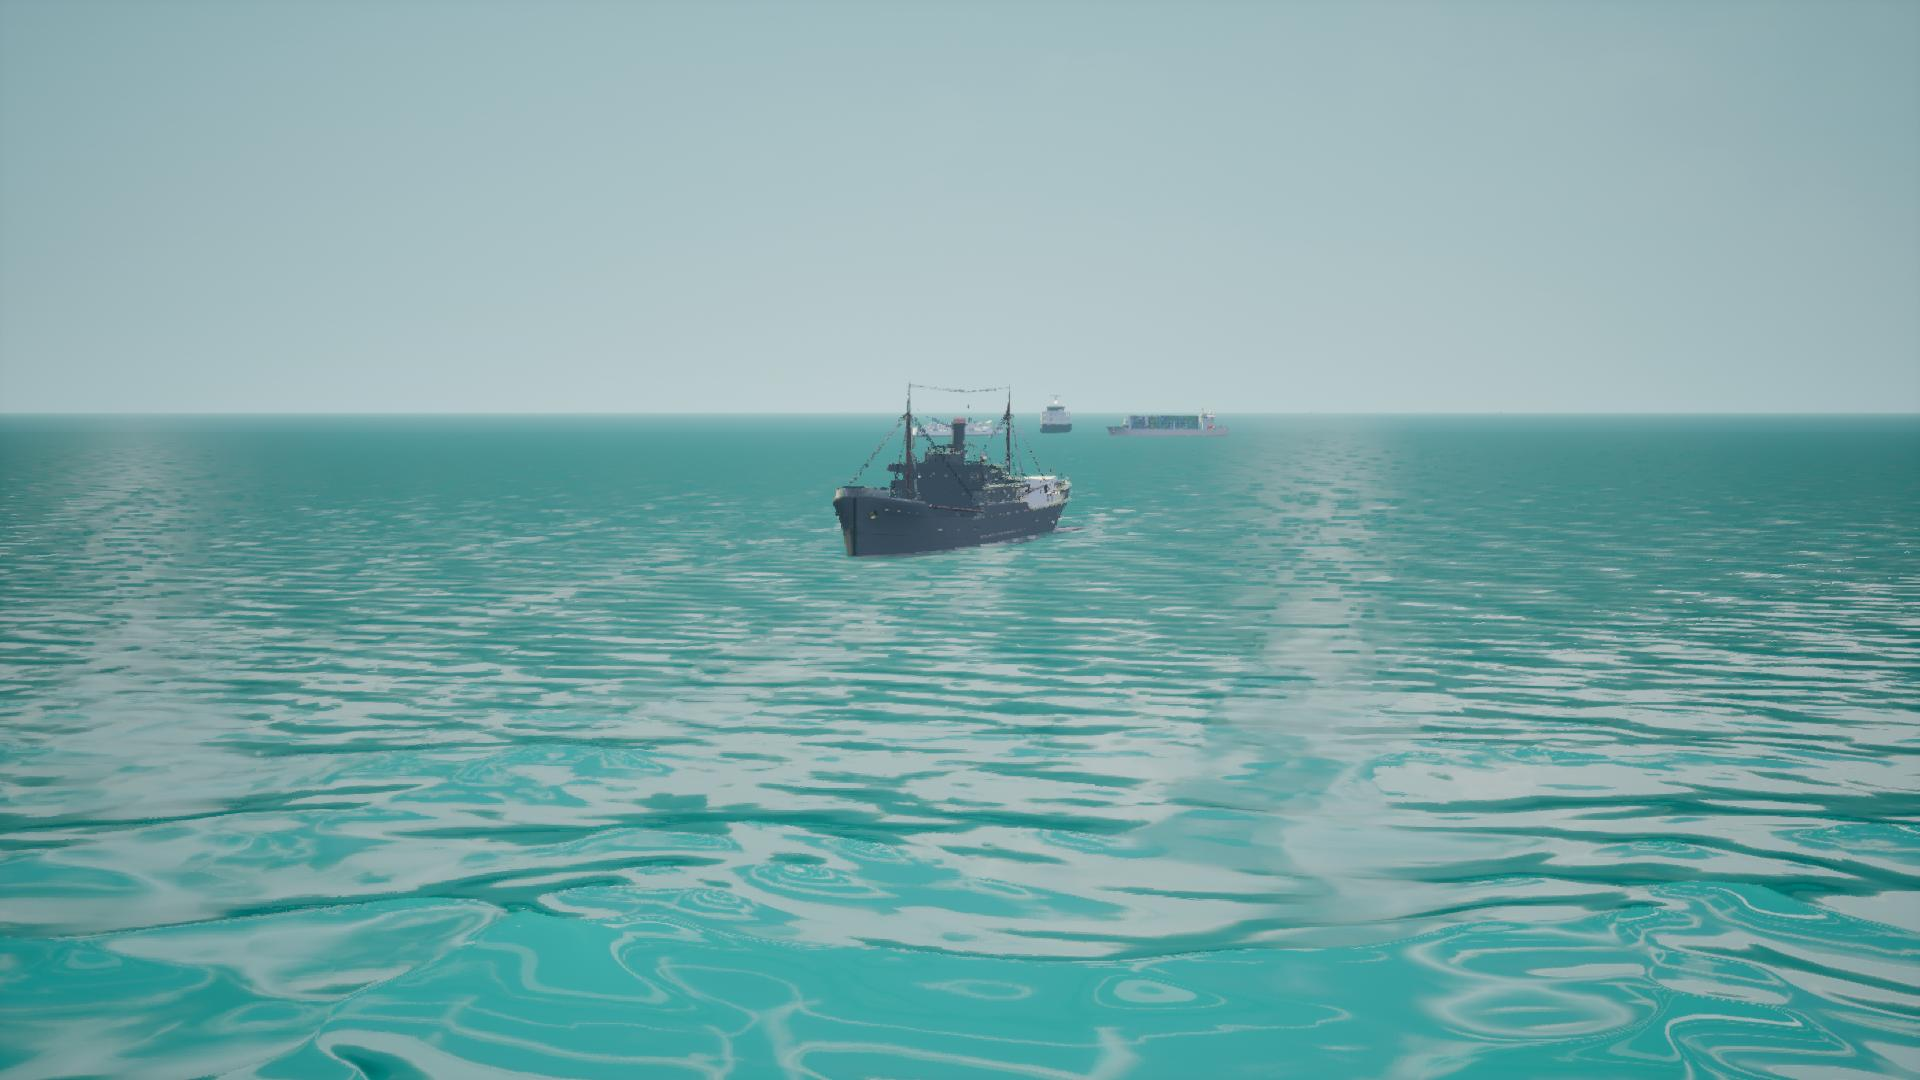Fishing Boat: (827, 382, 1067, 559)
